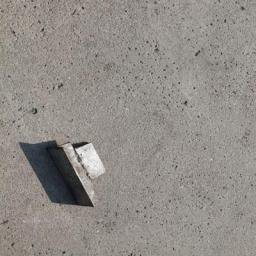FOD: (41, 139, 118, 211)
